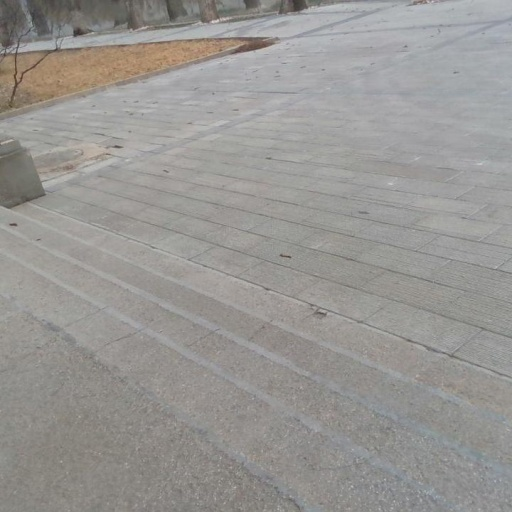Stairs: (2, 203, 512, 512)
